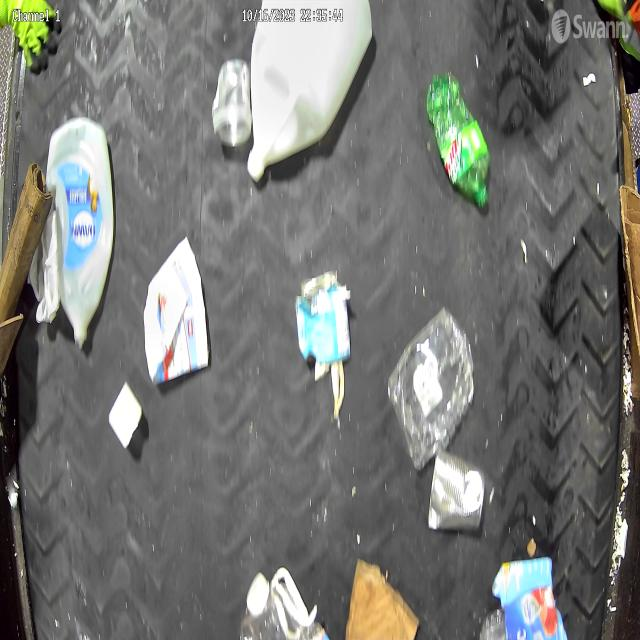can: (430, 448, 488, 535)
milk_jug: (246, 0, 375, 176)
non_white_jug: (49, 118, 115, 348)
